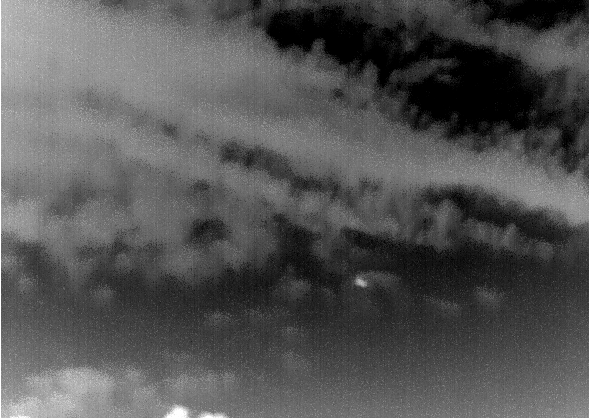dim target: (351, 275, 367, 289)
